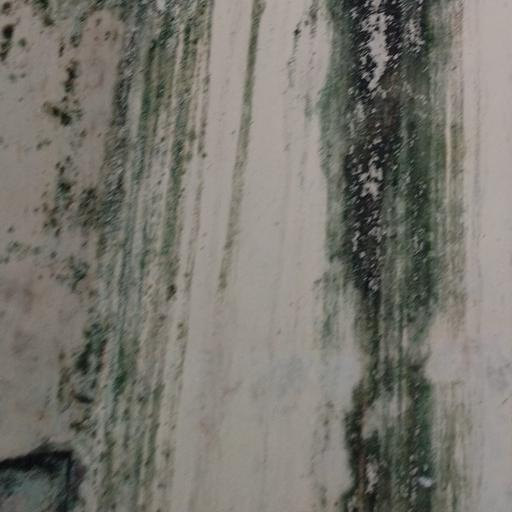algae: (62, 15, 512, 512)
